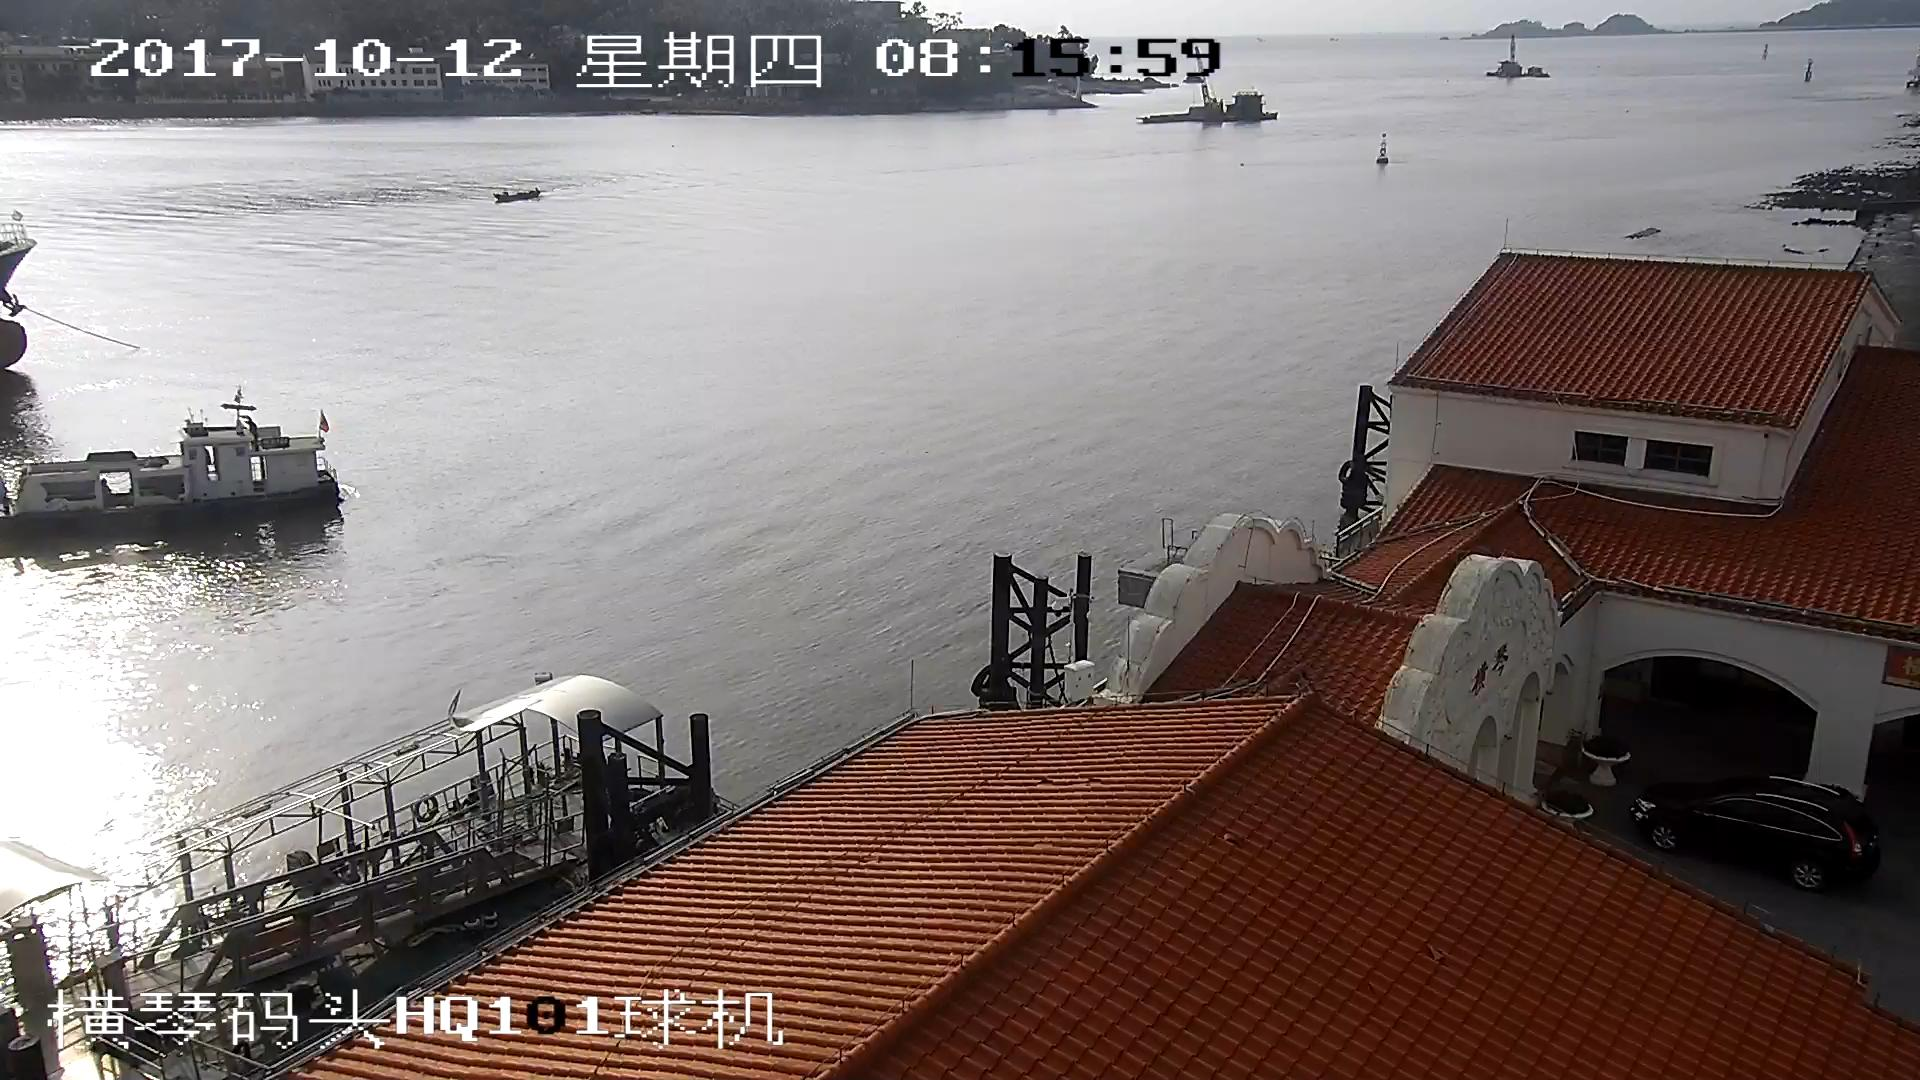fishing boat: (1, 398, 339, 503)
